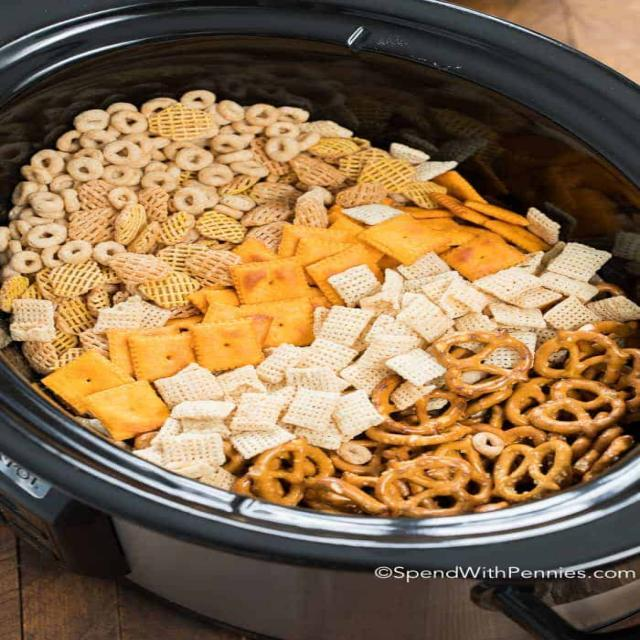Salatini: (16, 97, 640, 501)
